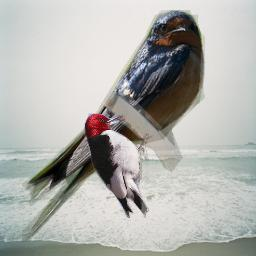Swallow: (22, 10, 205, 242)
Woodpecker: (84, 113, 149, 218)
